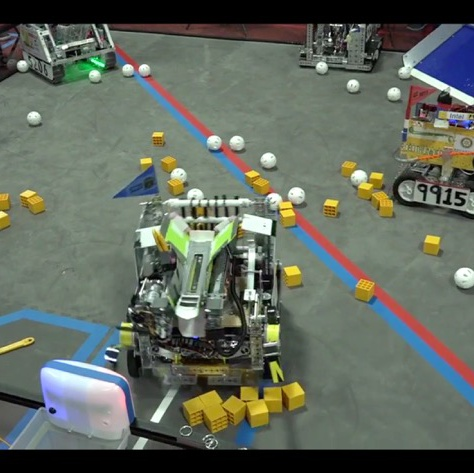robot: (109, 189, 287, 387), (396, 85, 474, 223), (14, 21, 120, 87), (295, 21, 389, 76)
